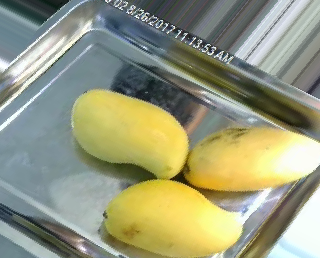Mango: (68, 85, 193, 183), (101, 177, 247, 258), (180, 120, 319, 191)
